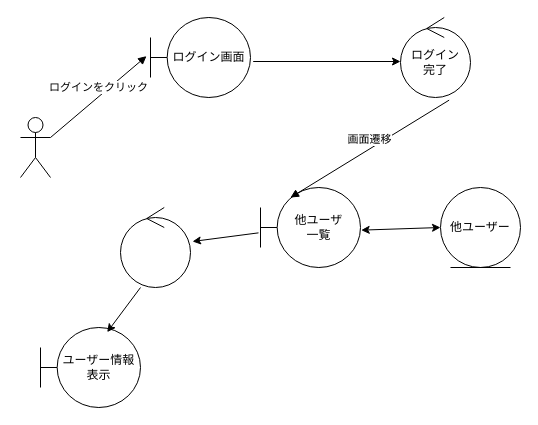
Image size: 538x425. Some labels were removed from this diagram. The shapes that lost their labels are listed below. From the top down, each one's centre as x and y in pixels, then its label:
the point at 35,147: ユーザ
the point at 155,247: 他ユーザー情報の取得
